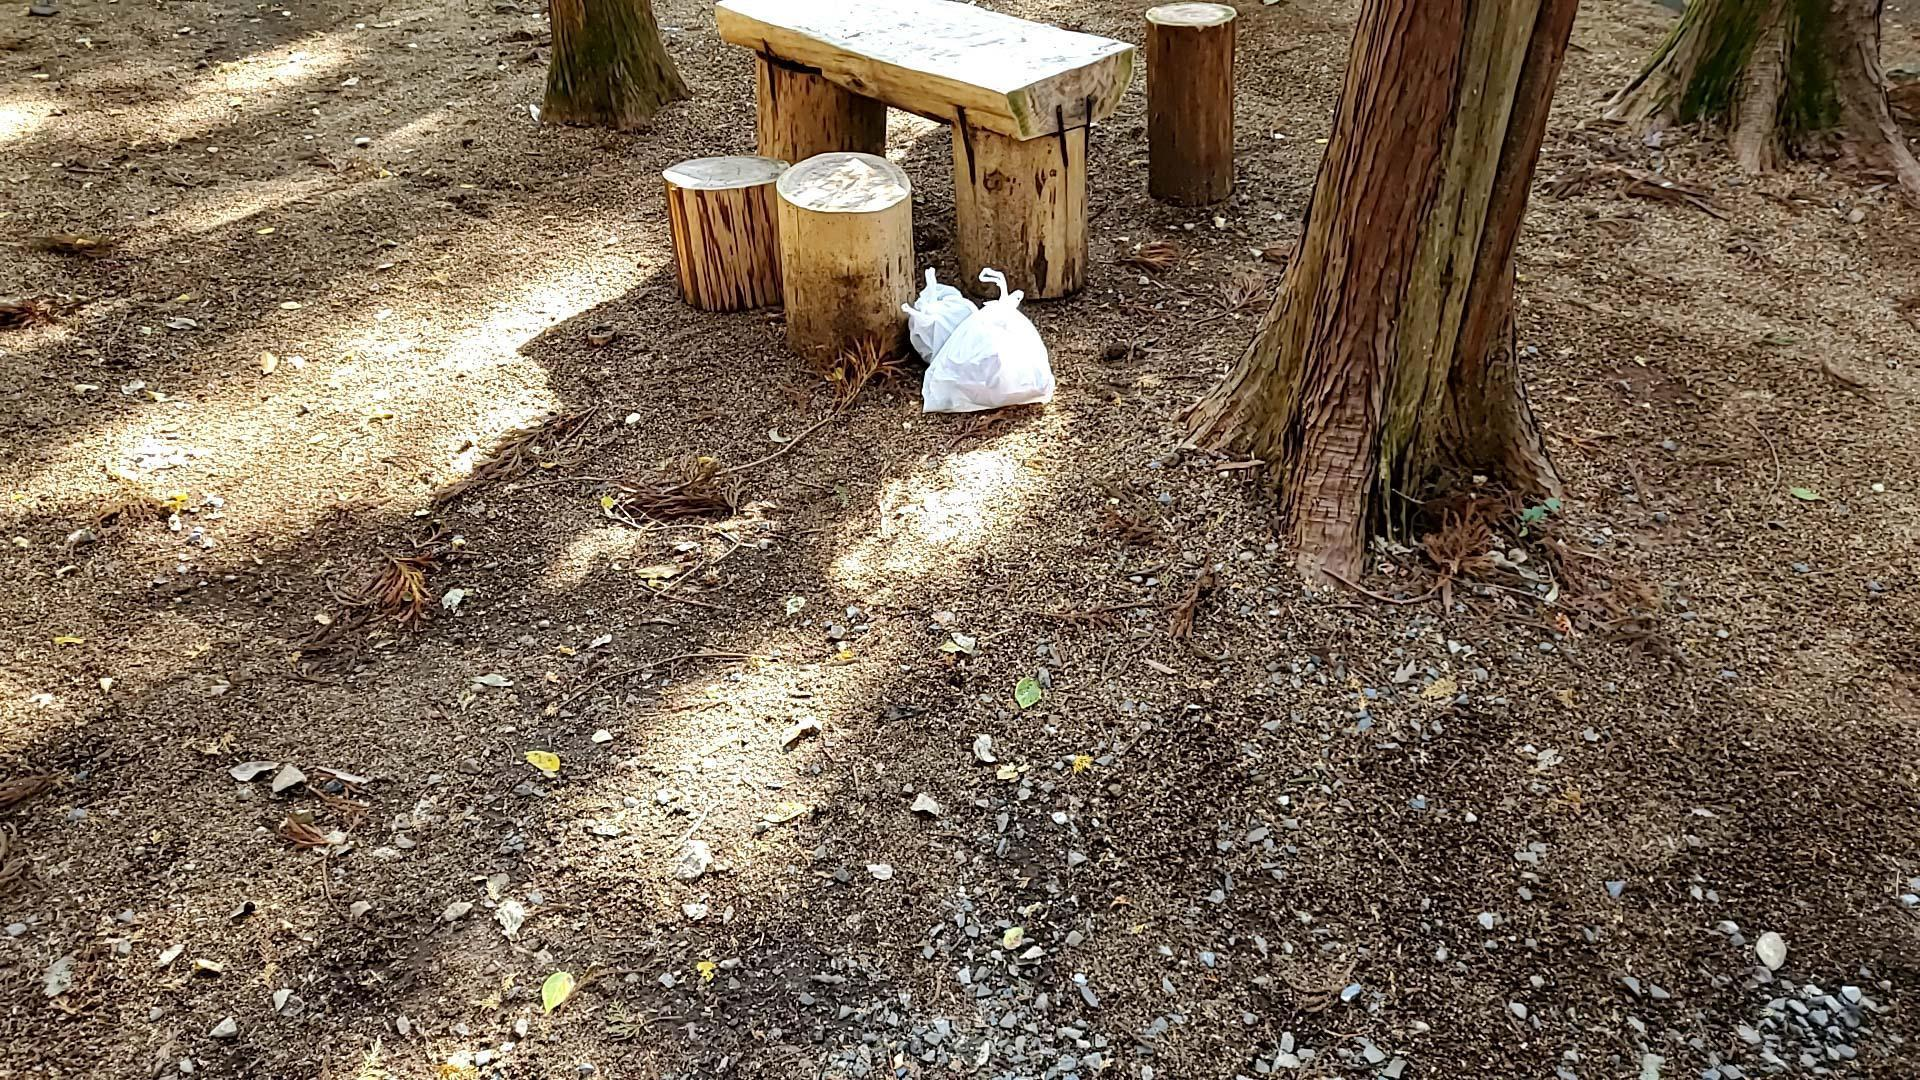white_bag: (916, 269, 1059, 415), (887, 262, 986, 373)
